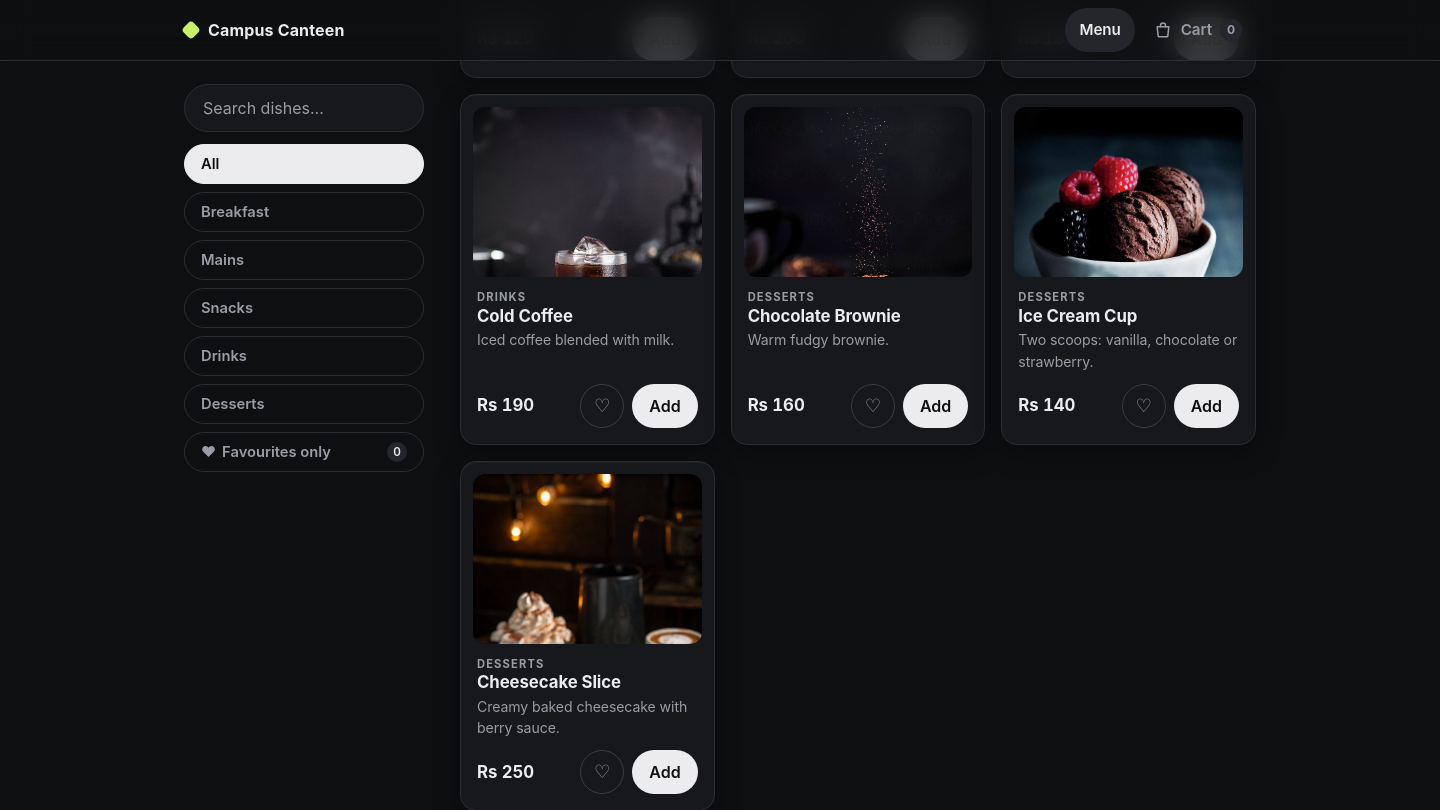
it: cart shared through context › removes lines and shows the empty state
(page scrolled)
Click the button with aria-label "Add Chocolate Brownie to cart" at (936, 406), box [903,384,968,428]
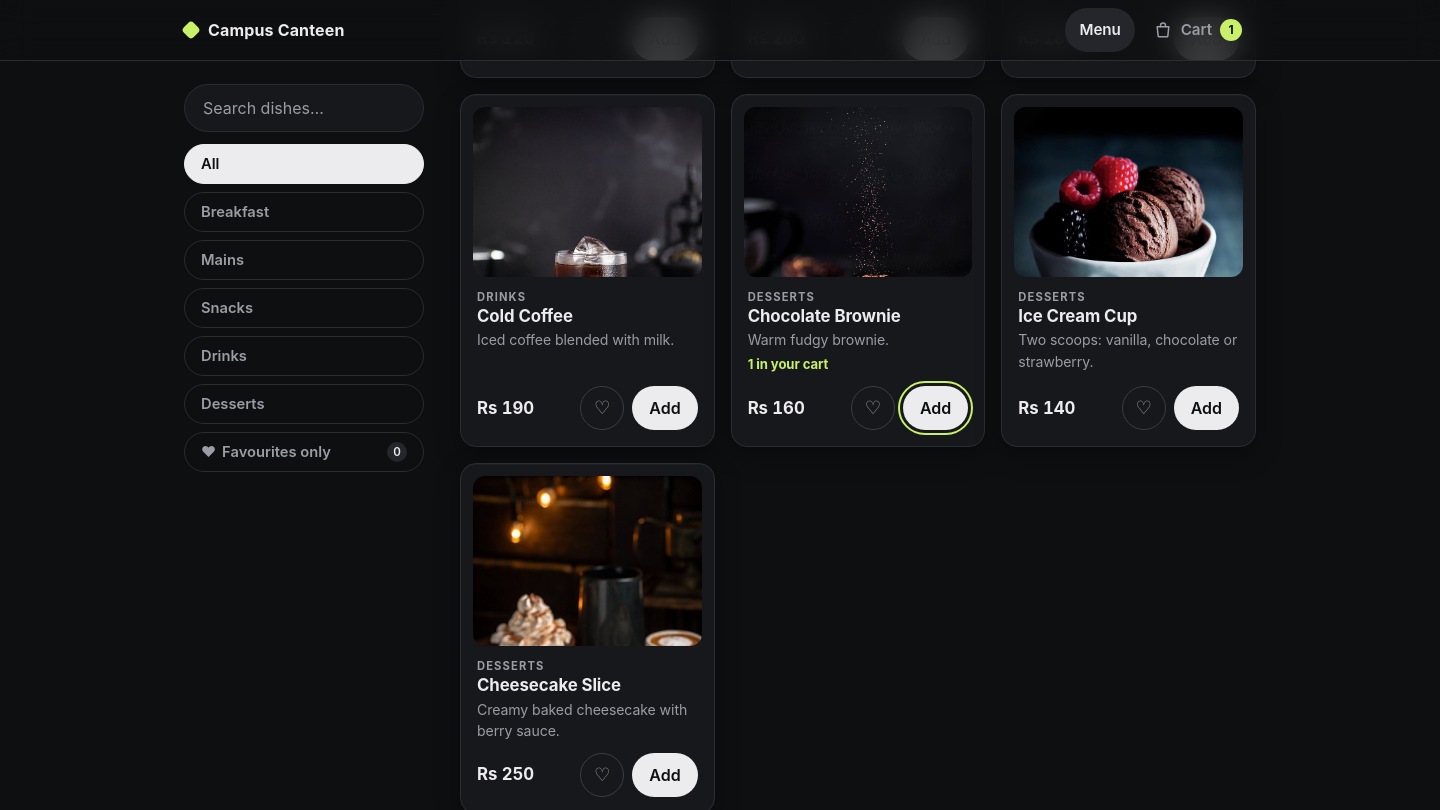
Click the link with aria-label "cart, 1 item" at (1197, 30), box [1153,19,1242,41]
(page scrolled)
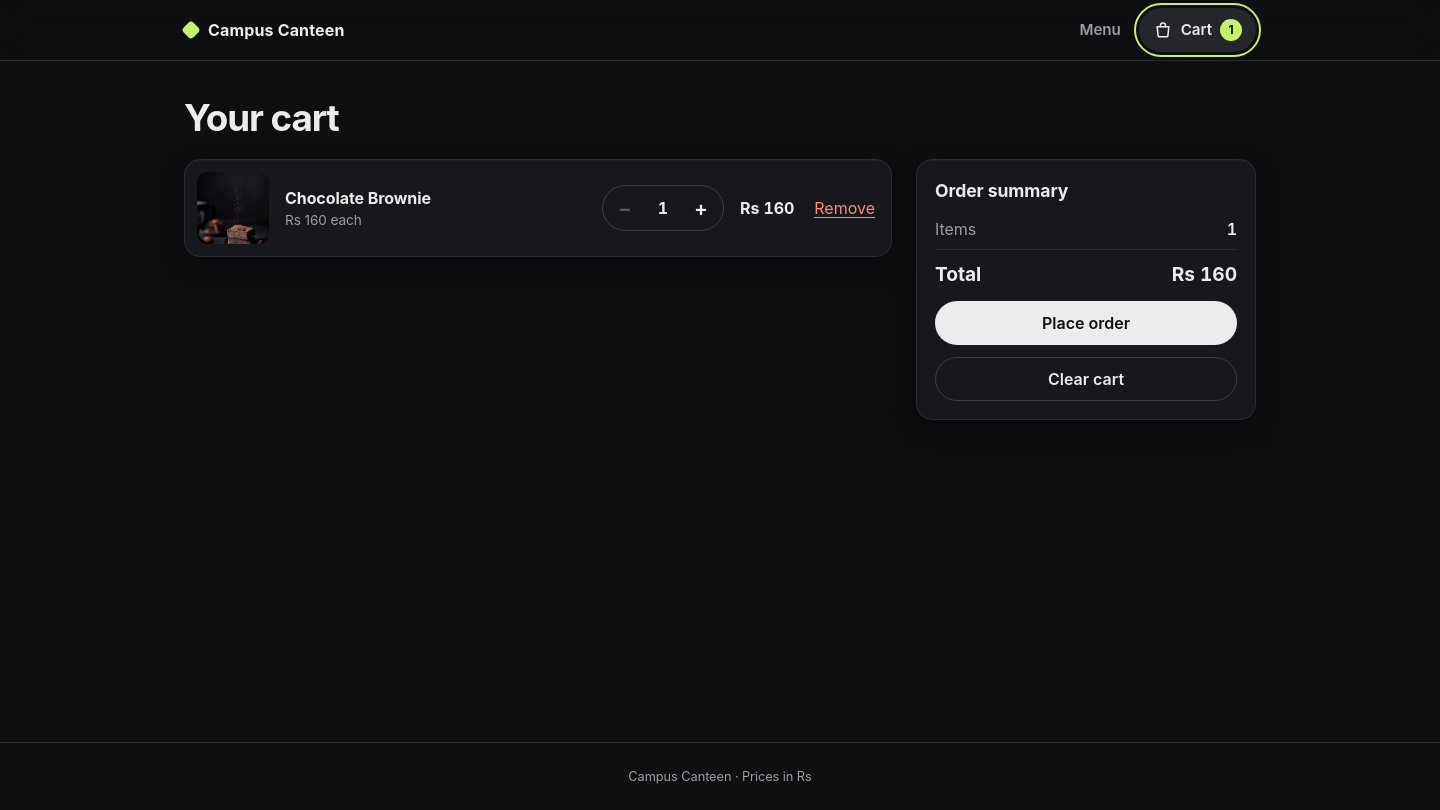
Click the button with aria-label "Remove Chocolate Brownie from cart" at (845, 208), box [810,186,879,230]
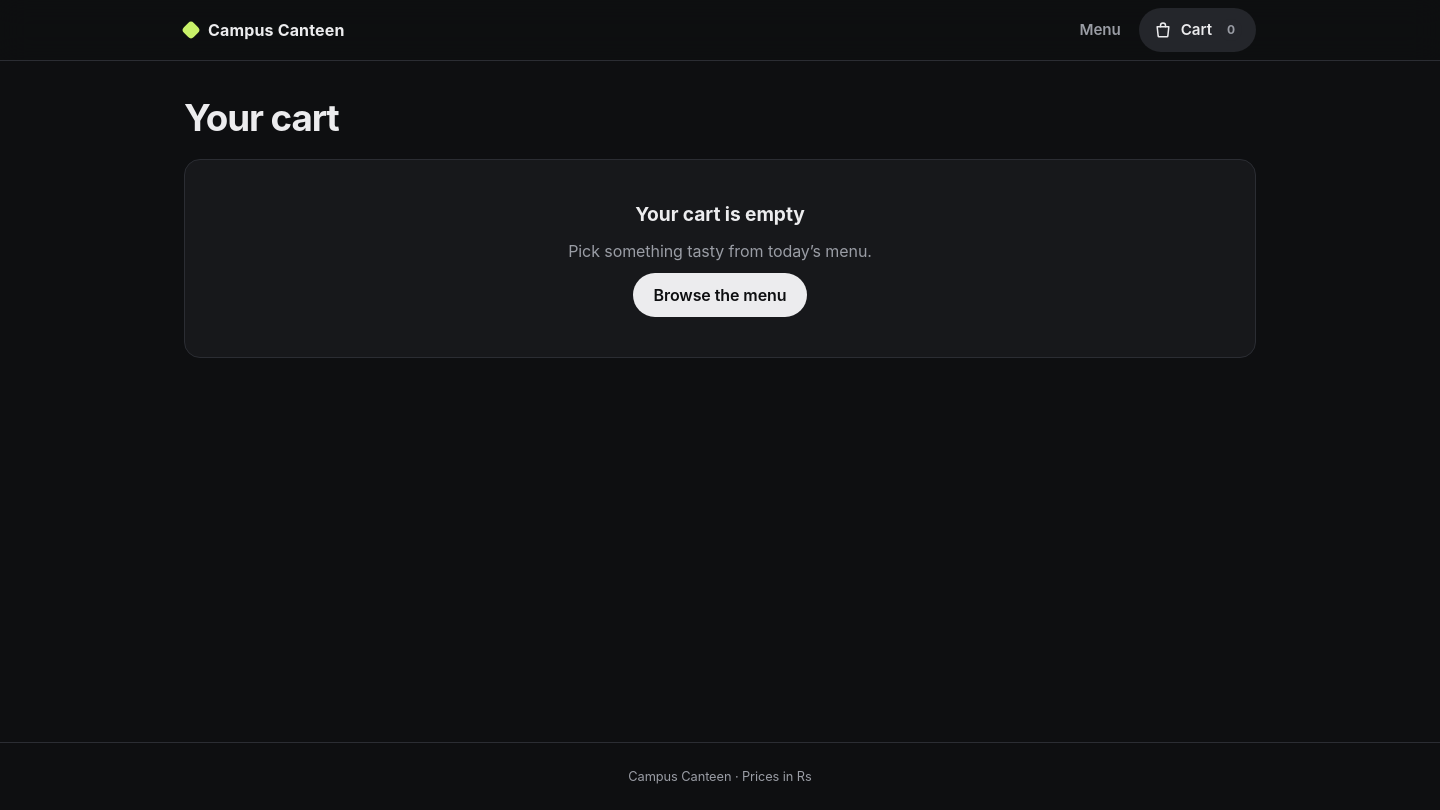
Now the text "Your cart is empty" is shown, box [635,200,805,229]
Now the text with test id "cart-count" reads "0", box [1227,22,1235,37]
